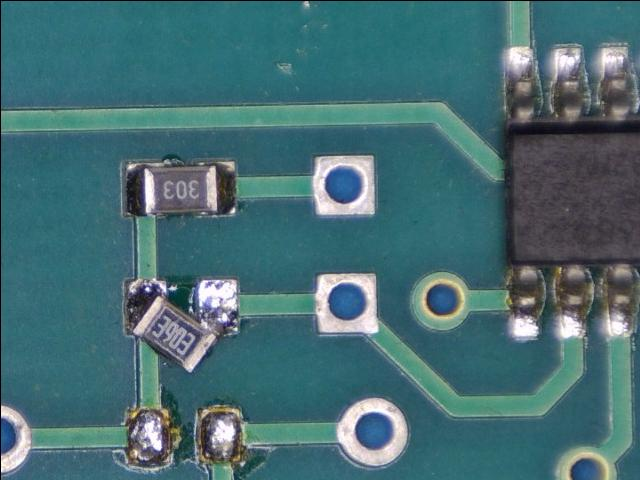Incorrect_installation: (123, 277, 239, 375)
